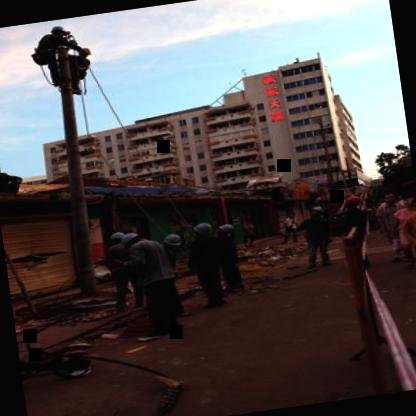helmet: (158, 228, 184, 252), (188, 219, 214, 242), (342, 190, 366, 212), (120, 228, 146, 247), (213, 222, 236, 238), (109, 228, 127, 248), (47, 22, 67, 38), (308, 202, 326, 216)
